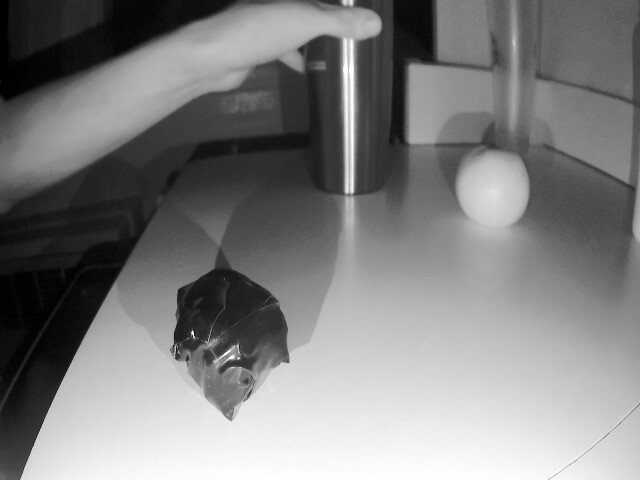black: (154, 265, 315, 465)
